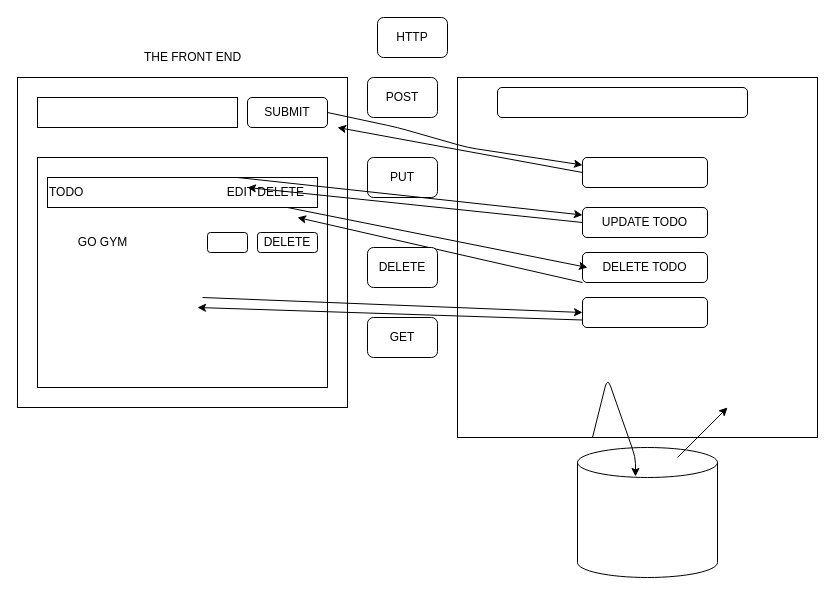
Image size: 835x595. Some labels were removed from this diagram. The shapes that lost their labels are listed below. From the top down, each one's centre as x and y in pixels, then its label:
(x=622, y=102): THE SERVER
(x=645, y=172): CREATE TODO
(x=227, y=242): EDIT
(x=645, y=312): READ ALL TODO
(x=647, y=512): DATABASE
